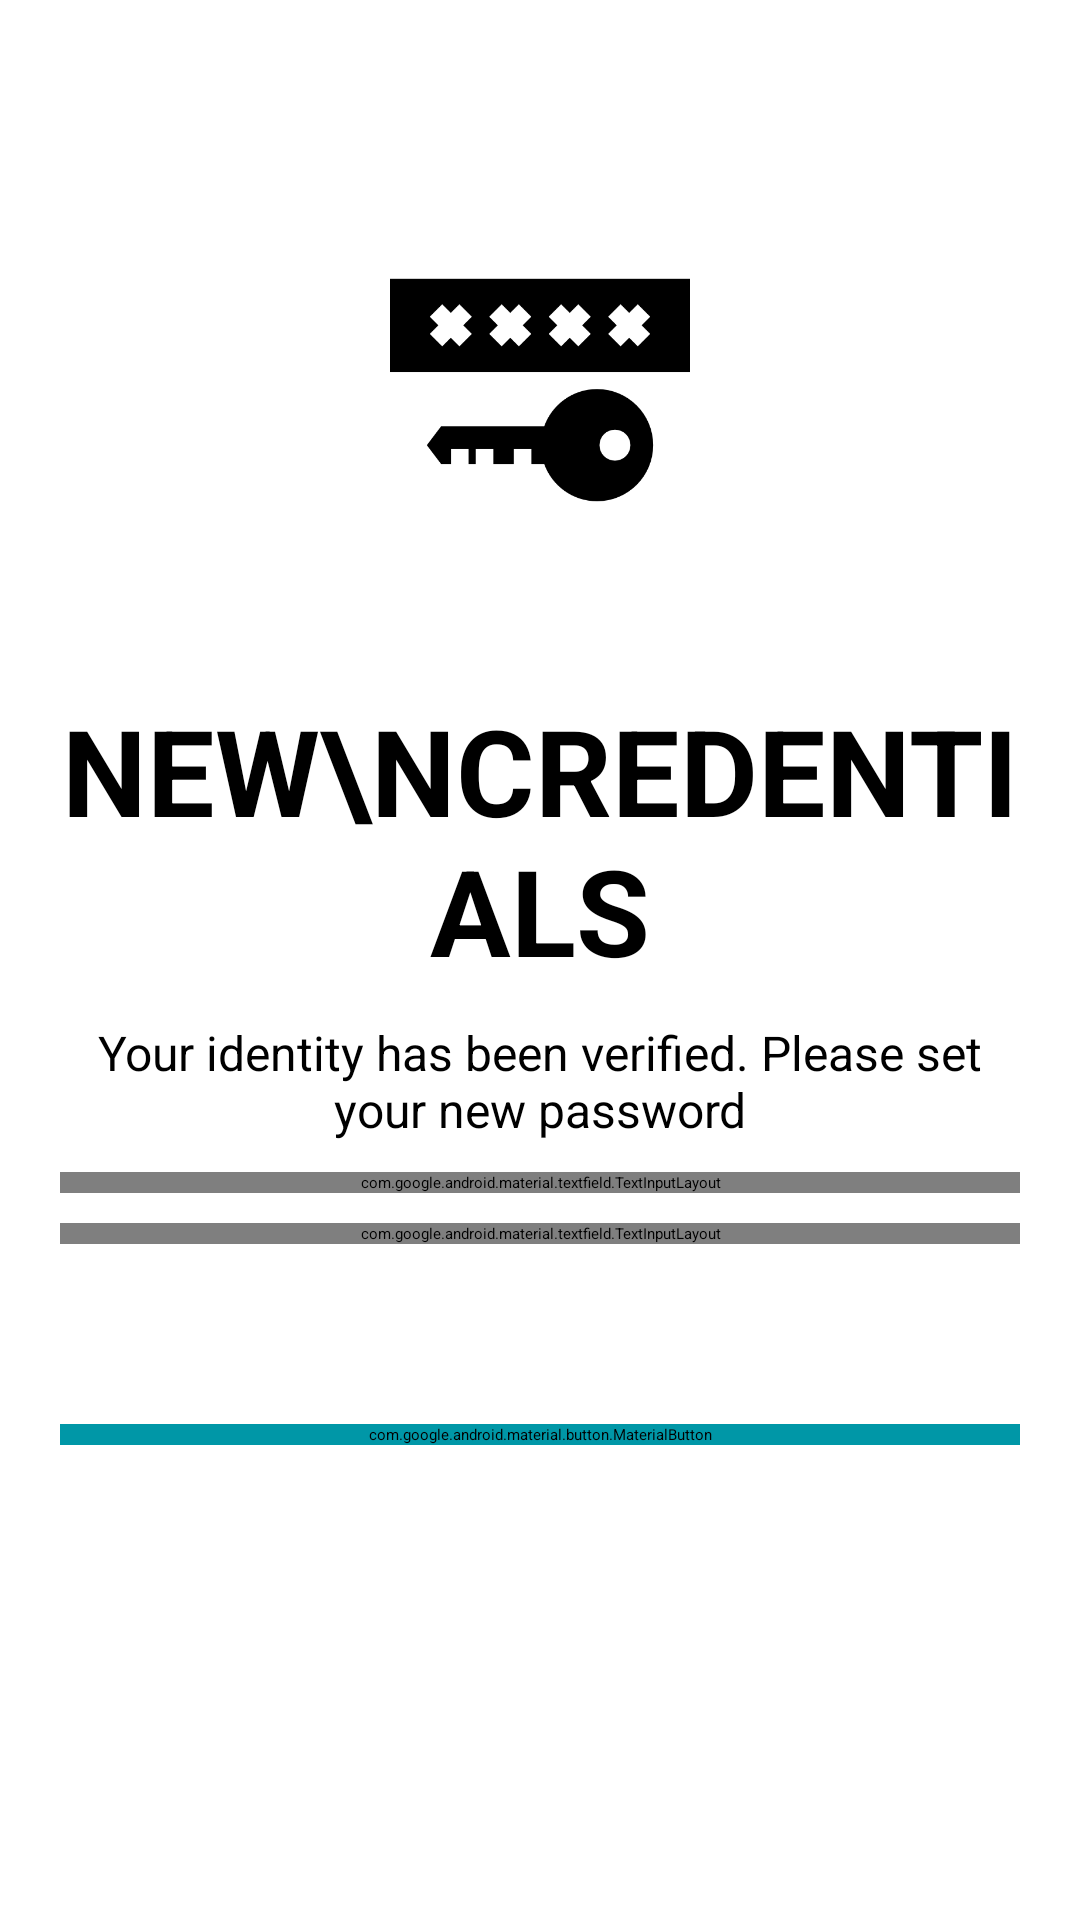

Named icons in this screenshot (1080×1920) and their centers, [x,y]:
password: [540,390]
